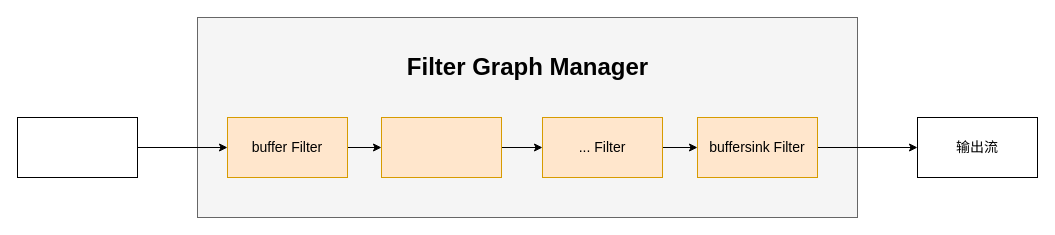
The diagram is 1055 pixels wide and 235 high, and some of its shapes have lost their labels. The centre of each missing label's shape, as x and y in pixels:
"scale Filter" goes at point 441,147.
"输入流" goes at point 77,147.
